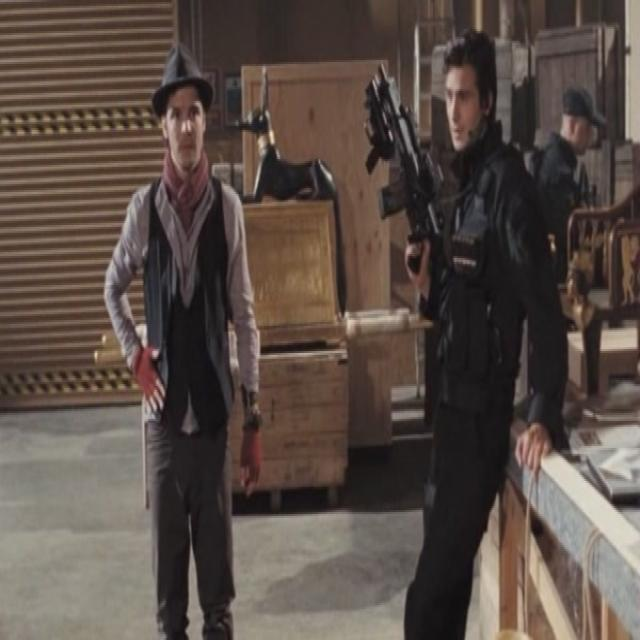rifle: (359, 58, 457, 326)
